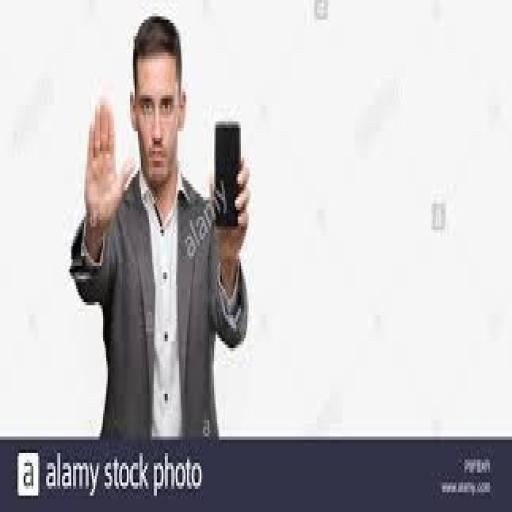texting: (68, 13, 252, 440)
